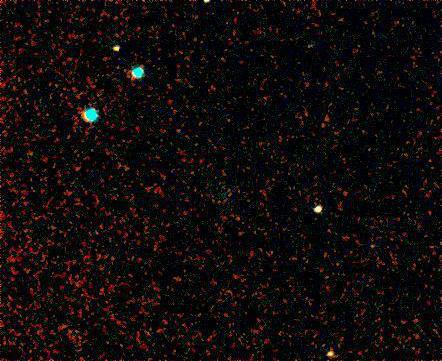star: (303, 195, 333, 225)
